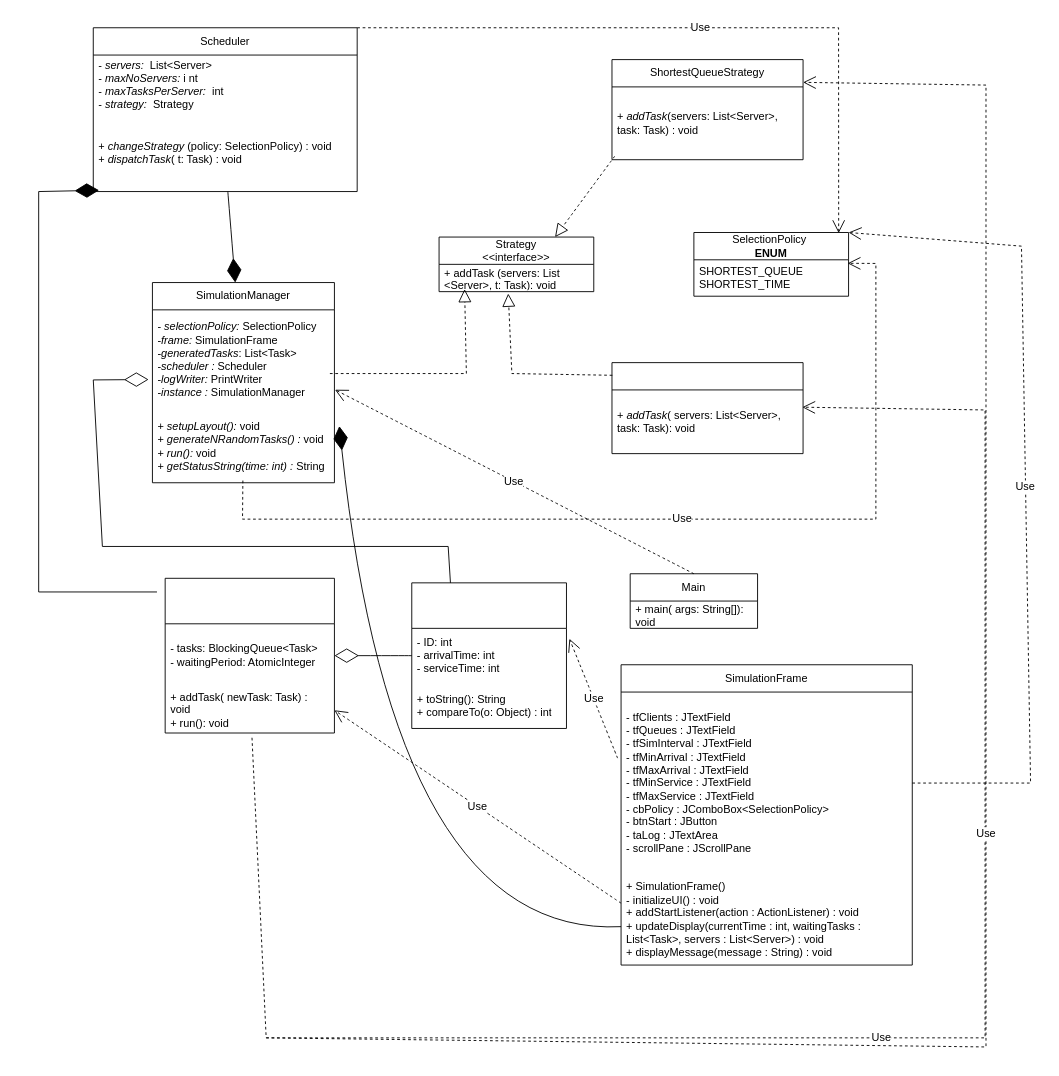
This 1059x1076 diagram has some shape labels left out. The shapes that lost their labels are listed below. From the top down, each one's box as (x1, y1, x2, y2) in pixels, then its label:
(611, 362, 803, 454): ShortestTimeStrategy
(164, 577, 334, 733): Server
(411, 582, 566, 728): Task
